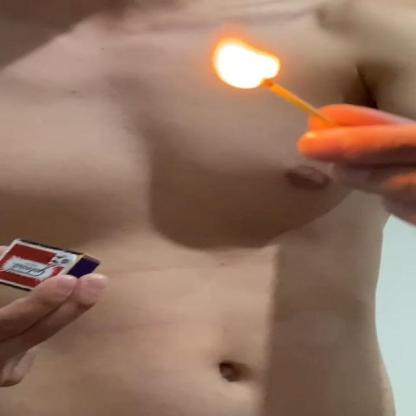fire: (204, 19, 286, 90)
